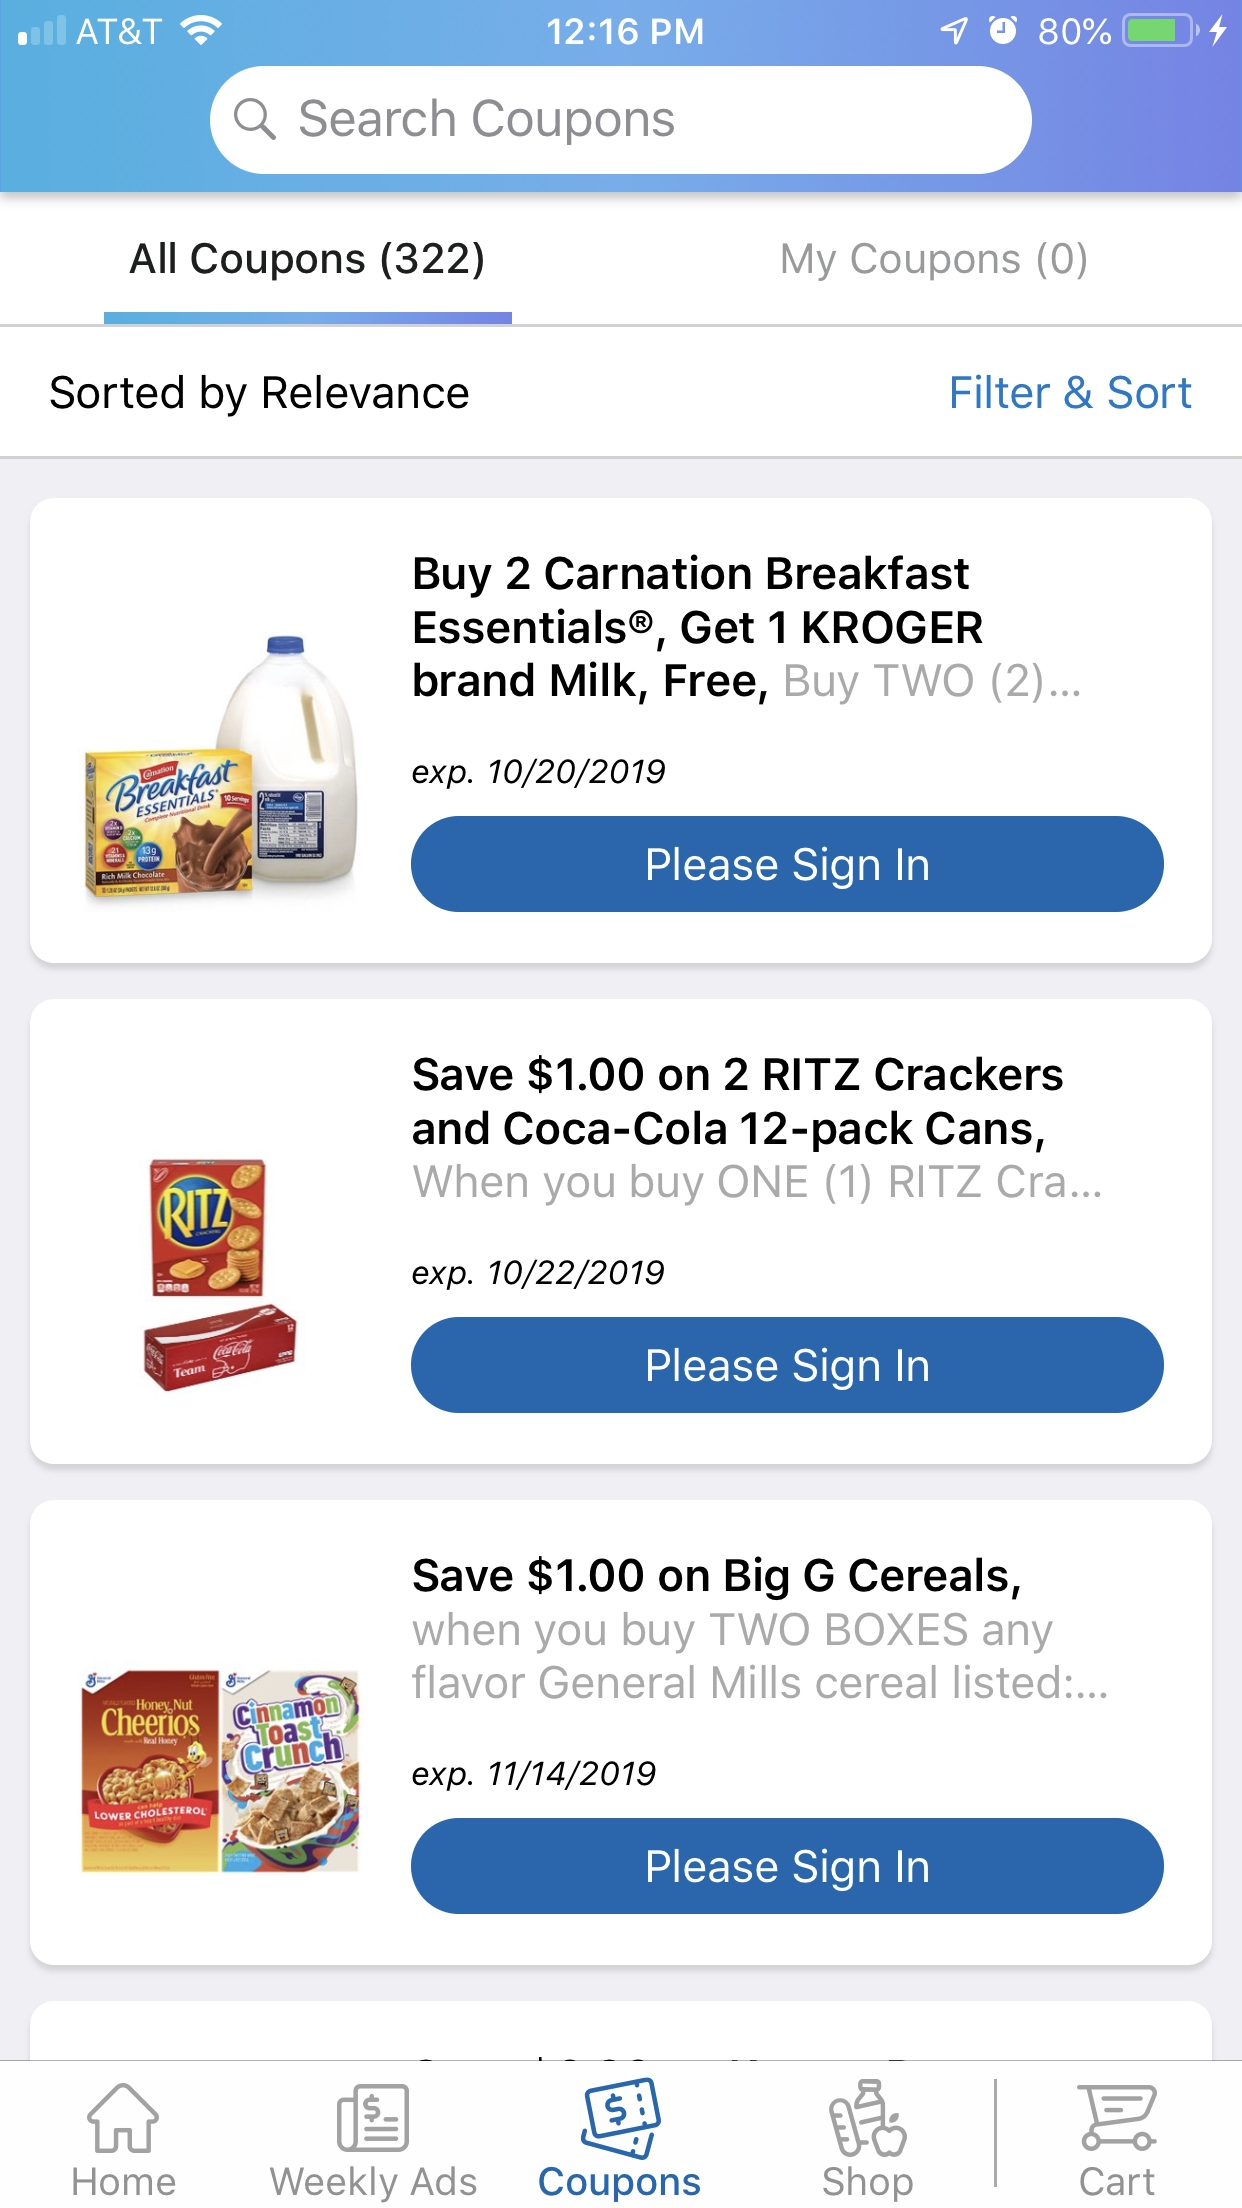EditText: (209, 67, 1033, 176)
Icon: (579, 2076, 663, 2159), (1077, 2084, 1159, 2152), (86, 2082, 161, 2153), (337, 2084, 411, 2153), (234, 99, 278, 143)
Image: (85, 635, 359, 899), (80, 1670, 361, 1873), (143, 1159, 299, 1394), (828, 2078, 908, 2158)
Text: (412, 1054, 1101, 1207), (414, 554, 1080, 707), (411, 1554, 1107, 1700), (50, 375, 470, 419), (300, 99, 675, 146), (129, 243, 484, 284), (783, 243, 1087, 284), (951, 375, 1192, 411), (412, 758, 666, 792), (412, 1759, 657, 1792), (412, 1259, 666, 1291), (270, 2166, 478, 2203), (538, 2166, 702, 2203), (823, 2166, 914, 2203), (73, 2166, 177, 2196), (1080, 2166, 1156, 2197)
TextButton: (411, 816, 1165, 914), (411, 1817, 1165, 1915), (411, 1316, 1165, 1413)
UpperTaskBar: (2, 2, 1242, 49)
